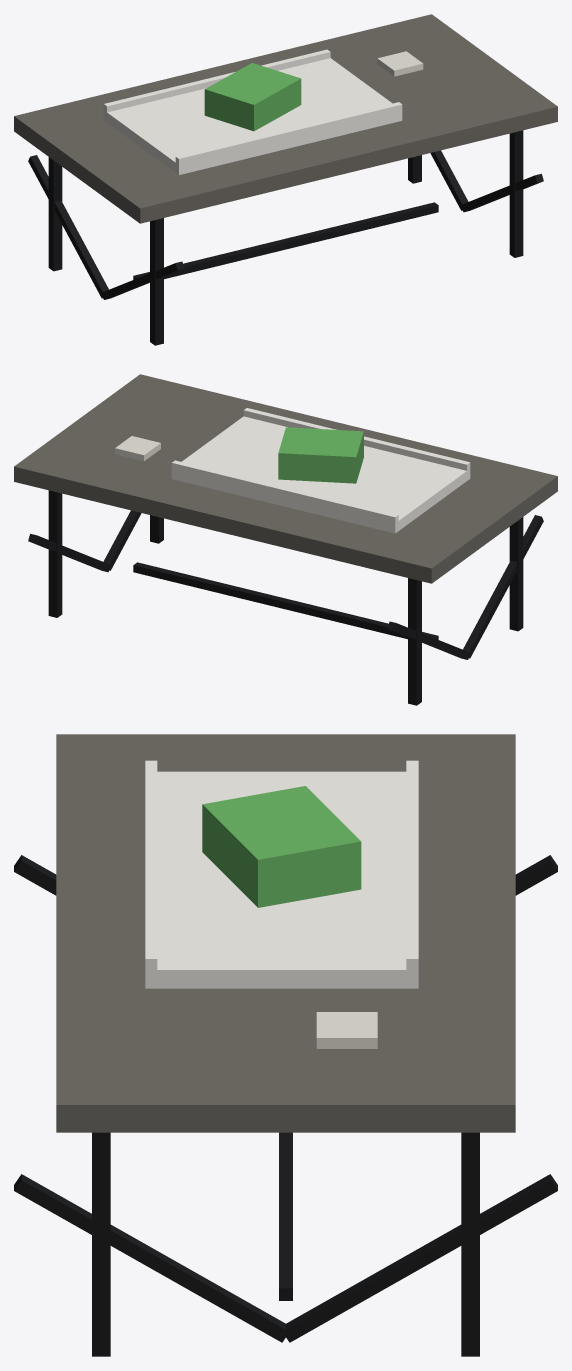
Rendered from coffee.glb.
3 renders of one model, top to bottom at view 1: azimuth 30°, elevation 25°; view 2: azimuth 150°, elevation 25°; view 3: azimuth 270°, elevation 25°, orthographic. The views are drawn at different scales.
Visible parts, largest first — view 1: root; view 2: root; view 3: root.
Part boxes in pixels (bbox=[...]): root: bbox=[14, 14, 557, 345]; root: bbox=[14, 374, 557, 705]; root: bbox=[14, 734, 557, 1356].
Size of the model in its own units: 1.31 by 0.5608 by 0.8126.
